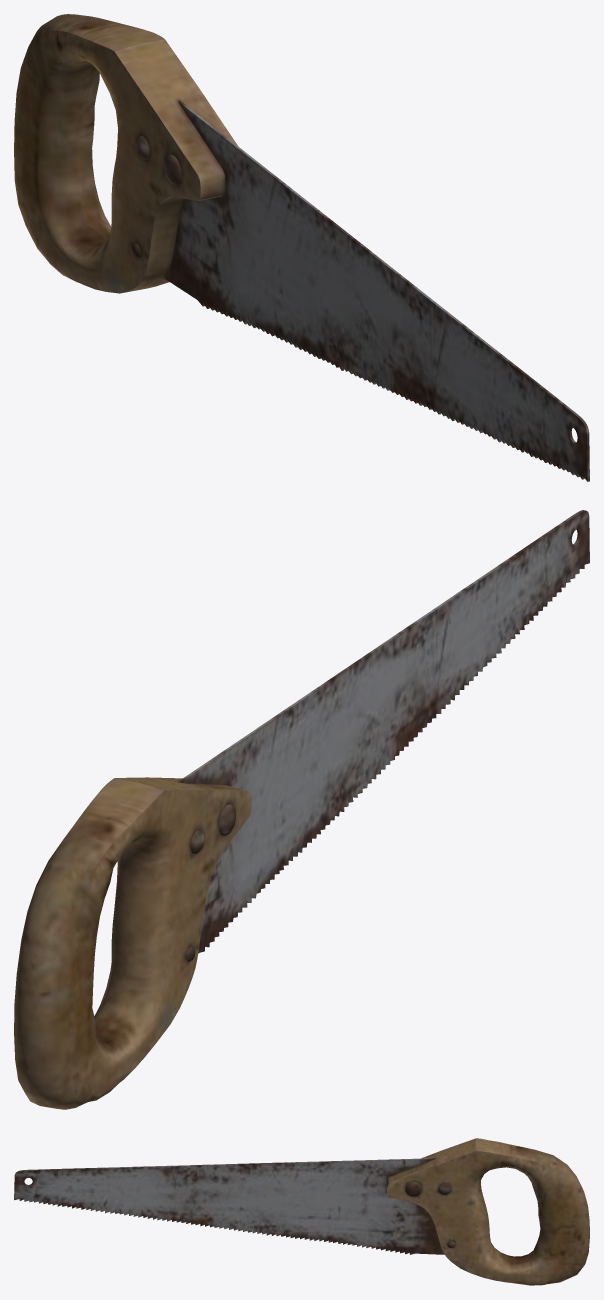
The model's file is handsaw_wood.glb.
3 renders of one model, top to bottom at view 1: azimuth 30°, elevation 25°; view 2: azimuth 150°, elevation 25°; view 3: azimuth 270°, elevation 25°, orthographic. The views are drawn at different scales.
Parts seen in each view (by area): view 1: handsaw_wood; view 2: handsaw_wood; view 3: handsaw_wood.
Part boxes in pixels (bbox=[...]): handsaw_wood: bbox=[14, 14, 589, 481]; handsaw_wood: bbox=[14, 510, 589, 1109]; handsaw_wood: bbox=[14, 1138, 589, 1285].
Size of the model in its own units: 0.0408 by 0.1665 by 0.633.
Materials: 1 (1 with a texture image).
